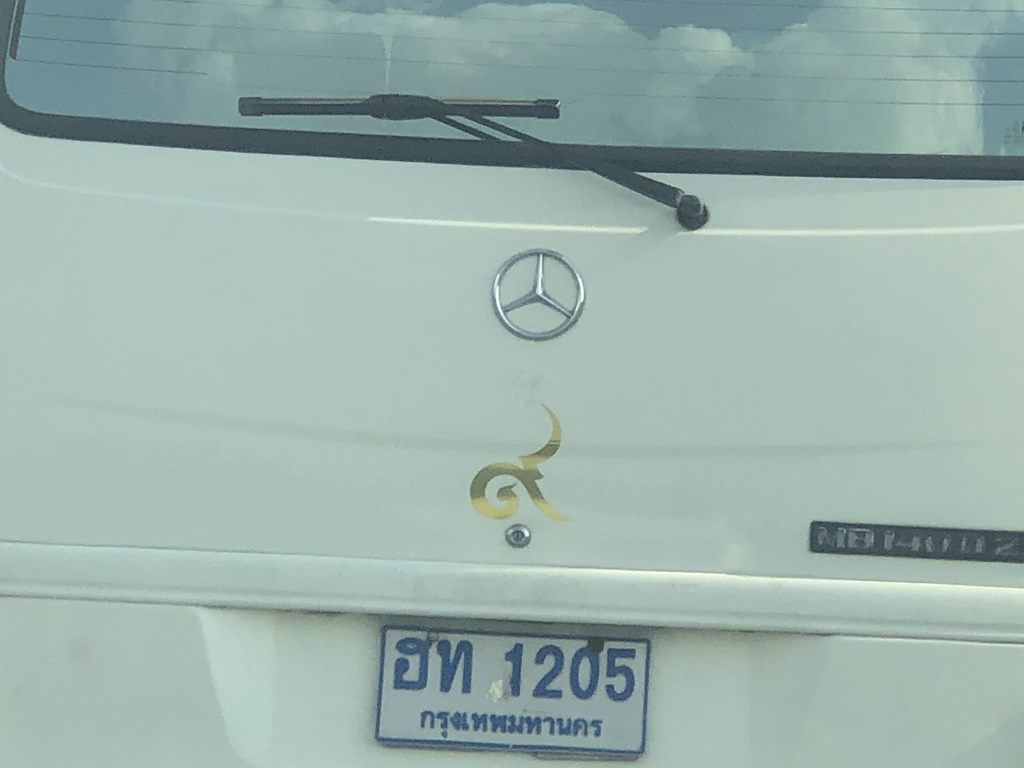zero: (561, 631, 608, 709)
